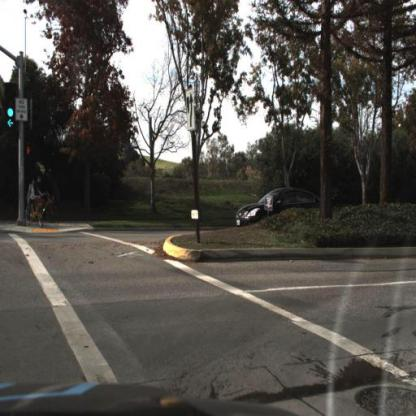biker: (29, 177, 60, 226), (25, 179, 44, 228)
car: (233, 186, 327, 231), (235, 187, 324, 231)
